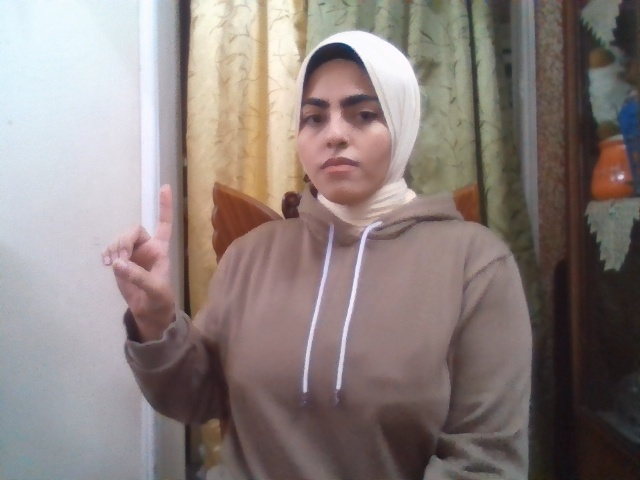D: (102, 183, 176, 323)
